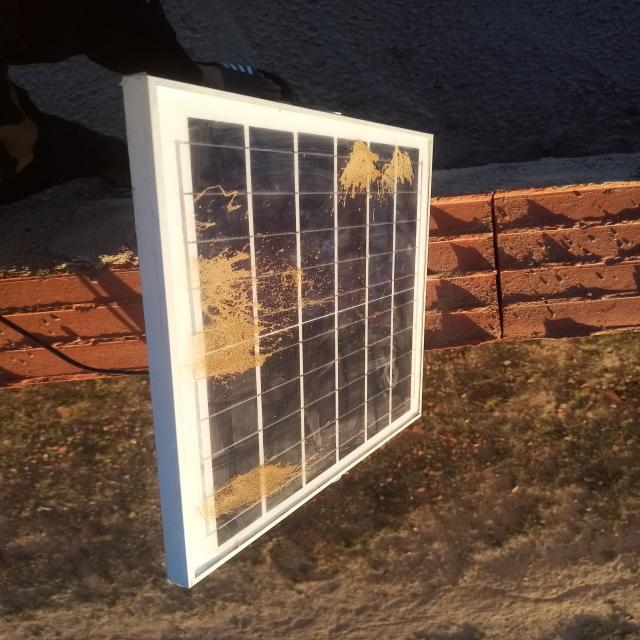faulty: (148, 78, 433, 586)
